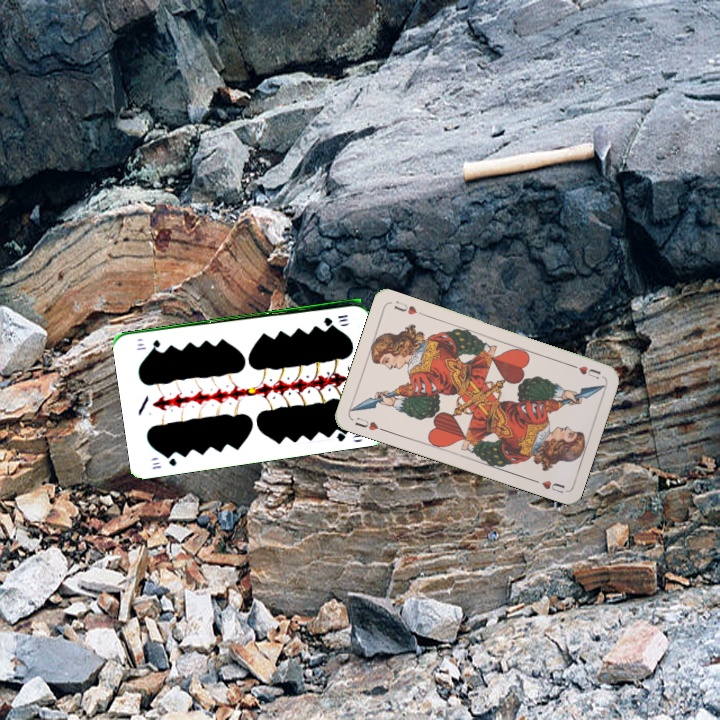G10: (148, 450, 179, 472), (319, 311, 350, 326)
HU: (566, 360, 603, 382), (350, 413, 388, 434)
